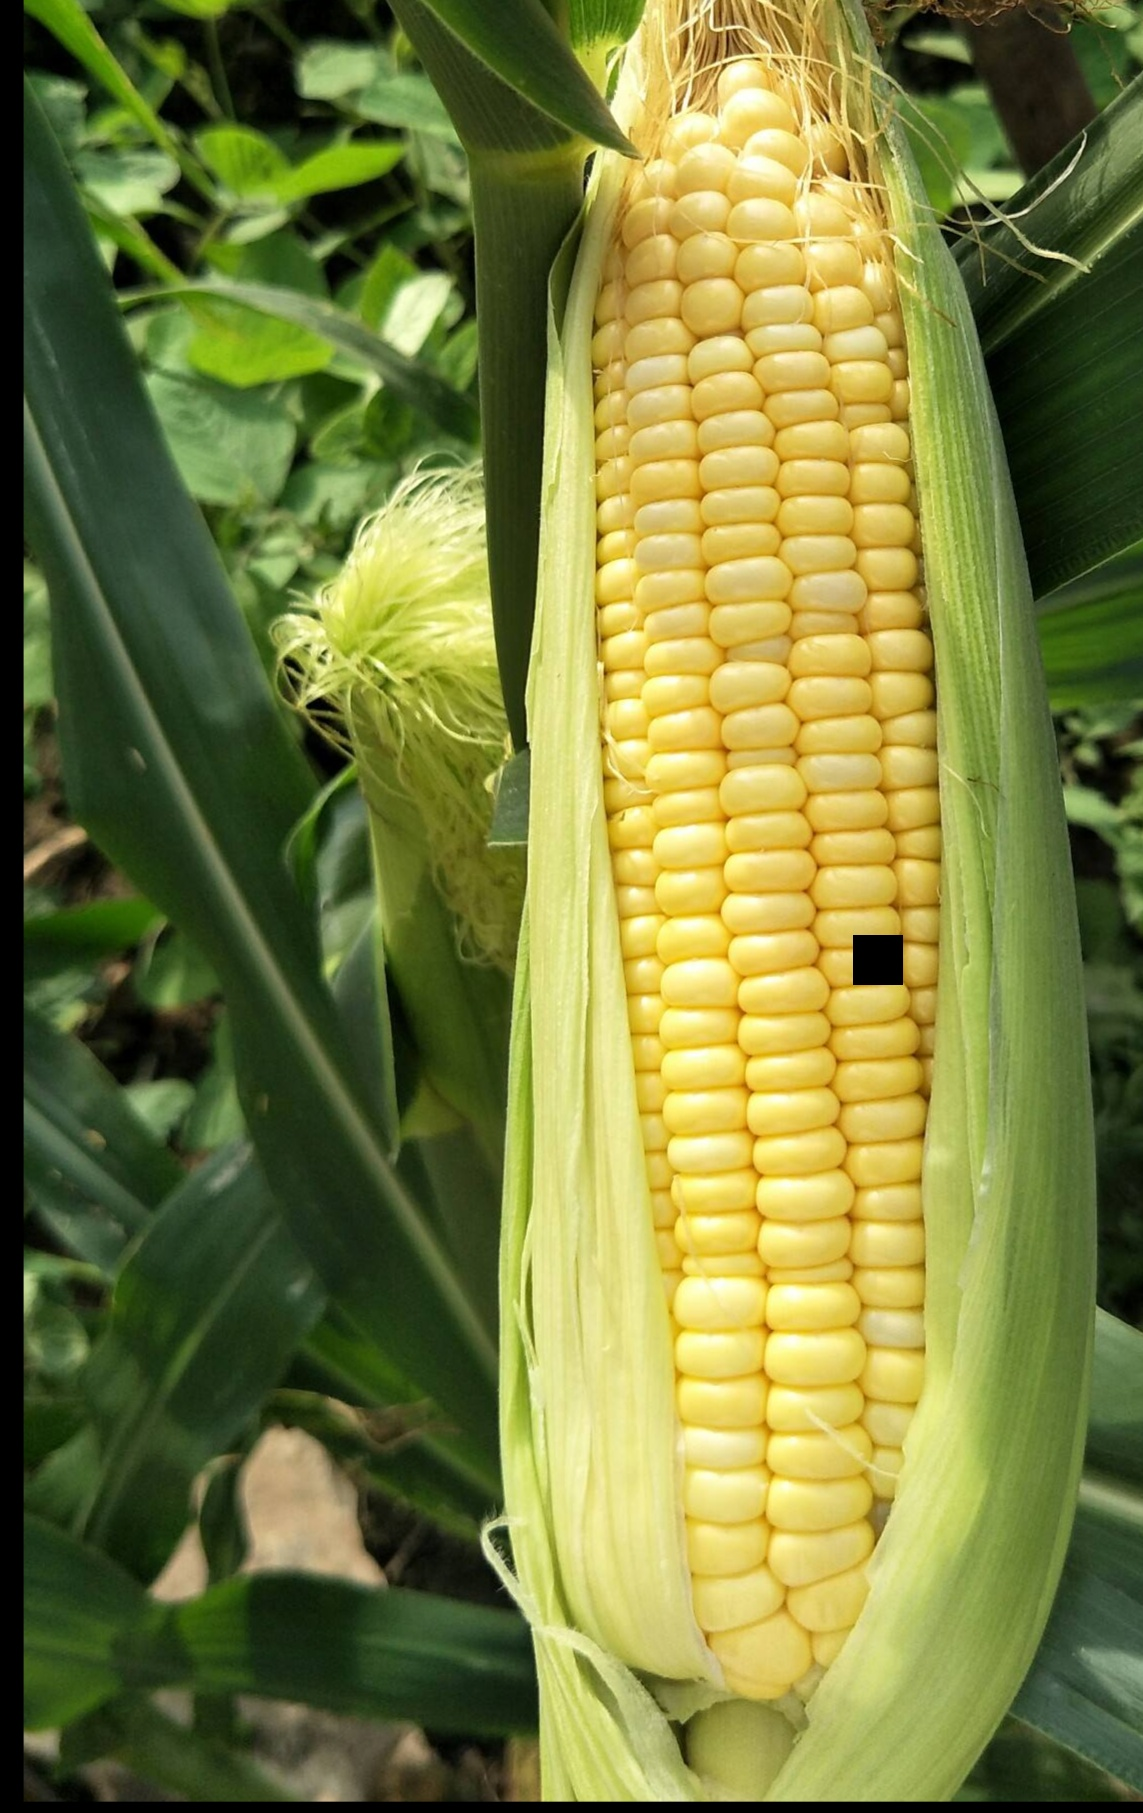corn: (504, 29, 1093, 1801)
